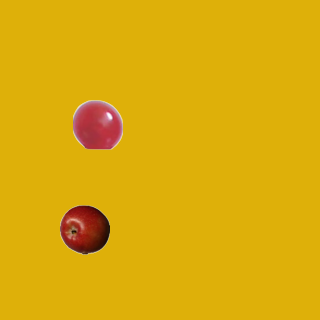Apple Braeburn: (59, 204, 109, 254)
Redcurrant: (72, 99, 122, 149)
